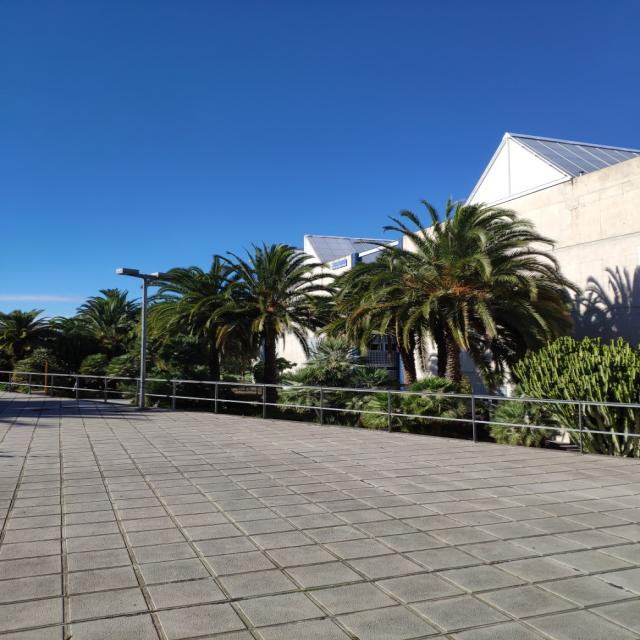Palm-Trees: (356, 196, 566, 398), (204, 241, 340, 406)
